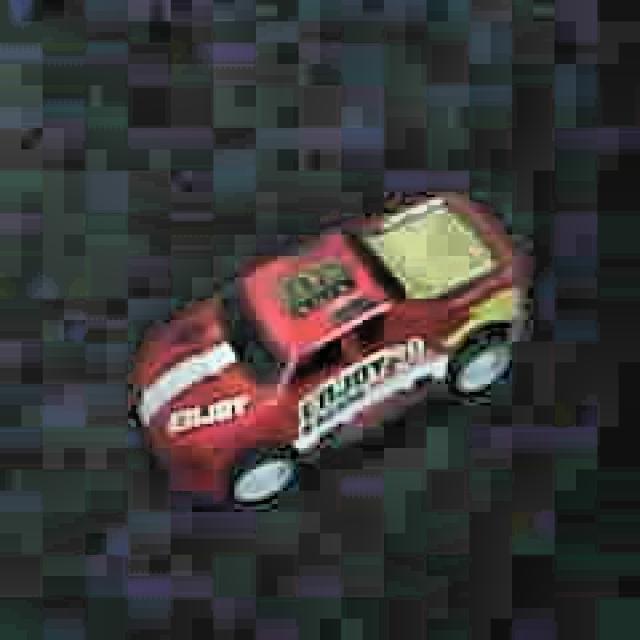car: (125, 182, 530, 513)
